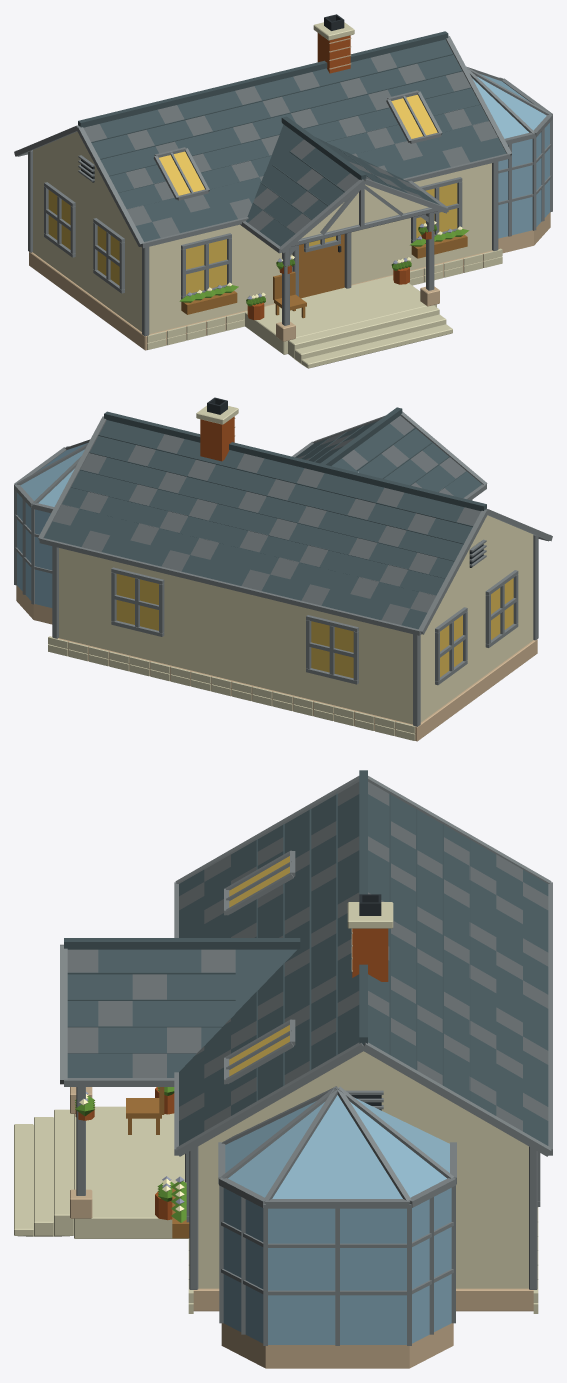
The model's file is House_A_Lv5_LOD0.fbx.
3 views of the same model, one above another, from view 1: azimuth 30°, elevation 25°; view 2: azimuth 150°, elevation 25°; view 3: azimuth 270°, elevation 25° (orthographic). The views are drawn at different scales.
Visible parts, largest first — view 1: House_A_Lv5_High; view 2: House_A_Lv5_High; view 3: House_A_Lv5_High.
Part boxes in pixels (bbox=[...]): House_A_Lv5_High: bbox=[14, 14, 552, 368]; House_A_Lv5_High: bbox=[14, 397, 552, 741]; House_A_Lv5_High: bbox=[14, 770, 552, 1368].
Bounding box in the file's own units: 19.03 × 9.35 × 13.49.
